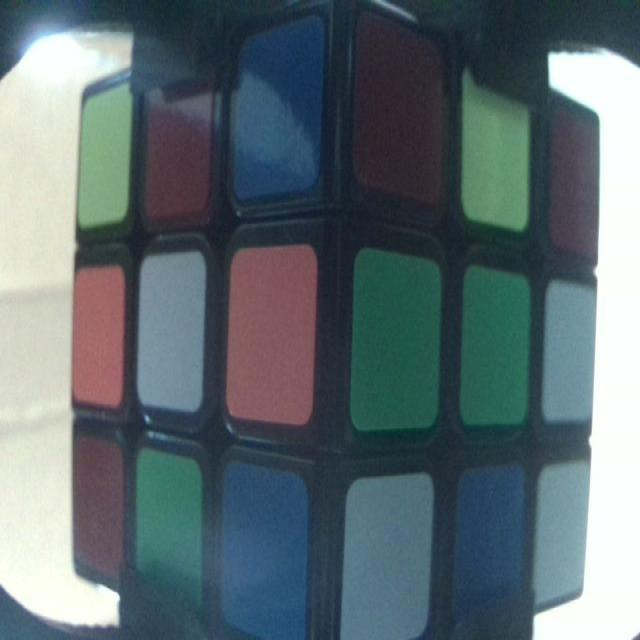b: (229, 17, 322, 195), (223, 460, 305, 640), (457, 468, 529, 640)
g: (354, 253, 438, 432), (458, 265, 530, 427), (136, 446, 201, 611)
o: (229, 250, 313, 428), (69, 272, 130, 407)
r: (356, 11, 445, 201), (146, 36, 210, 212), (73, 438, 124, 589), (549, 110, 598, 254)
w: (345, 482, 434, 640), (138, 253, 207, 409), (534, 463, 590, 602), (545, 282, 595, 422)
y: (464, 61, 534, 236), (79, 86, 128, 222)
